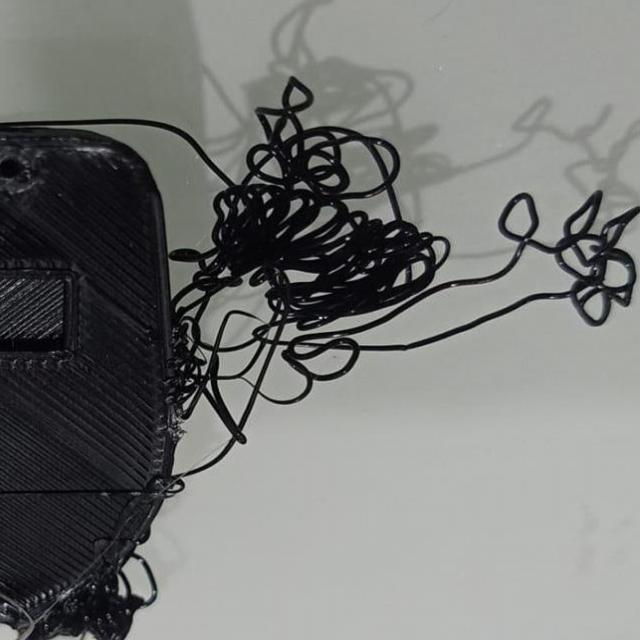Spaghetti: (195, 96, 429, 330), (499, 181, 640, 319)
